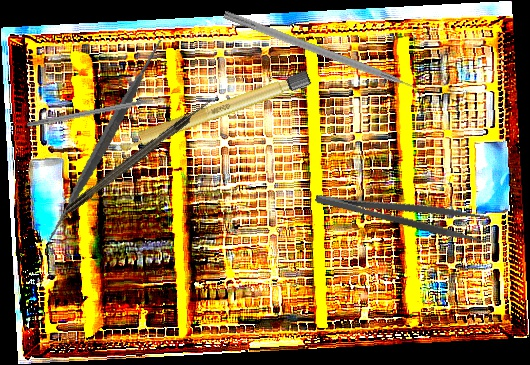Chopper: (218, 10, 431, 108)
Dressing Forceps: (313, 176, 492, 246)
Hook Surgical: (63, 95, 217, 215), (26, 94, 169, 129)
Scalpel Handle: (107, 69, 314, 157)
Spatula Surgical: (1, 37, 209, 242)
